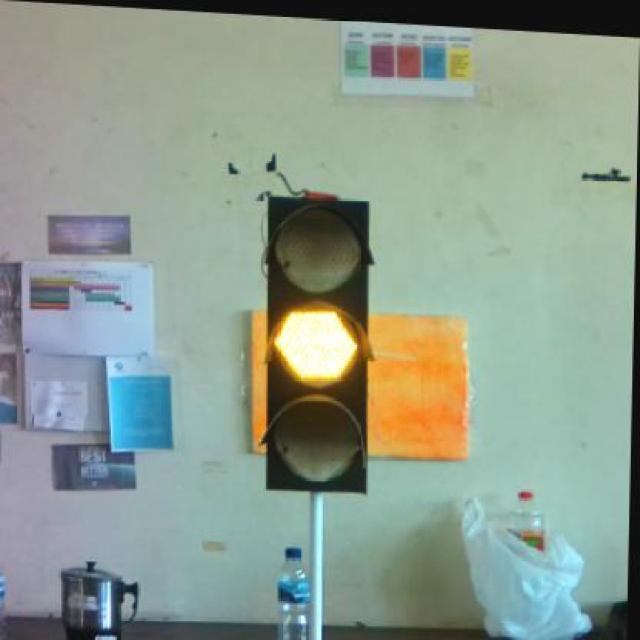yellow_light: (258, 172, 373, 493)
